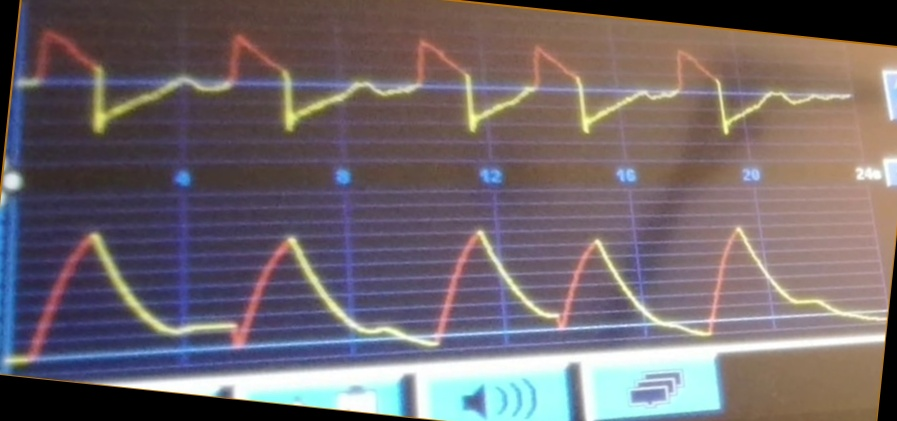Ineffective_effort Flow: (18, 21, 849, 142)
Ineffective_effort Volume: (16, 219, 881, 363)
